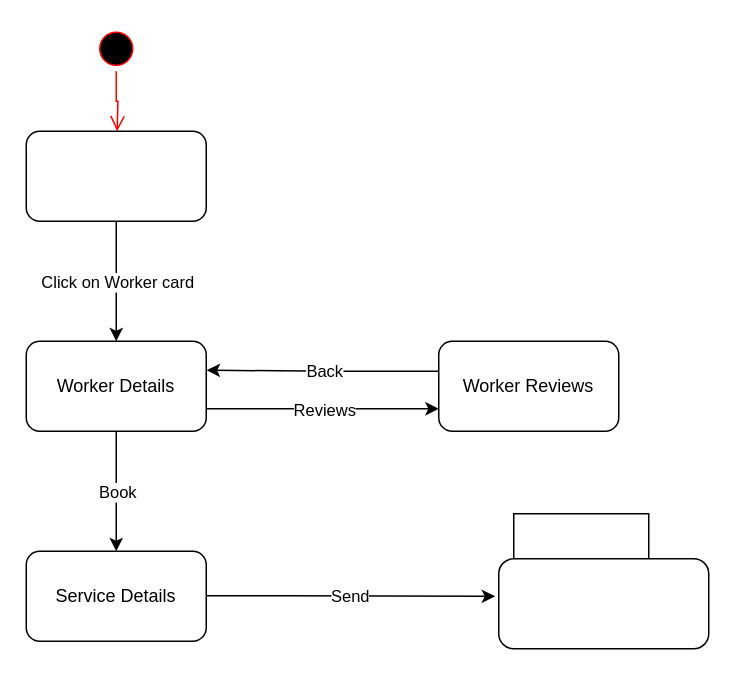
The diagram is 735 pixels wide and 675 high, and some of its shapes have lost their labels. The shapes that lost their labels are listed below. From the top down, each one's box as (x1, y1, x2, y2) in pixels, then its label:
(25, 130, 206, 221): Dashboard
(497, 512, 709, 649): State1
